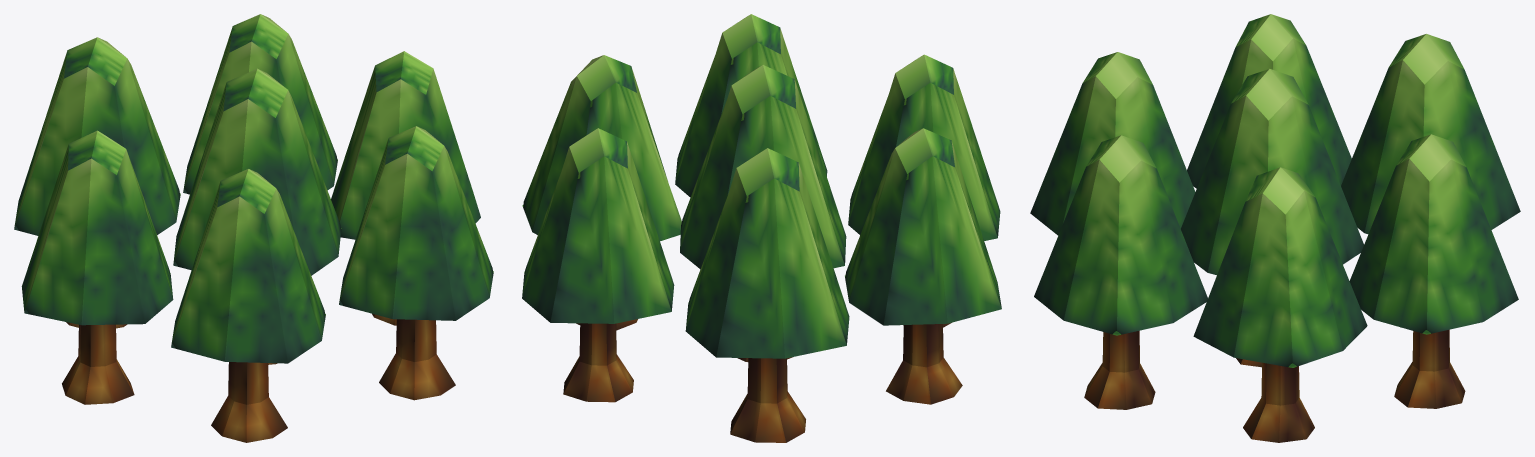
File: Poly_World_Map_Land_Tree_02.obj
3 renders of one model, left to right at view 1: azimuth 30°, elevation 25°; view 2: azimuth 150°, elevation 25°; view 3: azimuth 270°, elevation 25°, orthographic.
Parts seen in each view (by area): view 1: Cube.004_Cube.045, Cube.005_Cube.046; view 2: Cube.004_Cube.045, Cube.005_Cube.046; view 3: Cube.004_Cube.045, Cube.005_Cube.046.
Boxes of the visible parts, x1,y1,x2,y2 form: Cube.004_Cube.045: (14,14,493,363); Cube.005_Cube.046: (62,313,455,442); Cube.004_Cube.045: (522,14,1001,358); Cube.005_Cube.046: (563,319,962,442); Cube.004_Cube.045: (1030,14,1520,367); Cube.005_Cube.046: (1084,329,1465,442).
Size of the model in its own units: 1.19 by 0.6938 by 1.08.
1 material, 1 textured.
